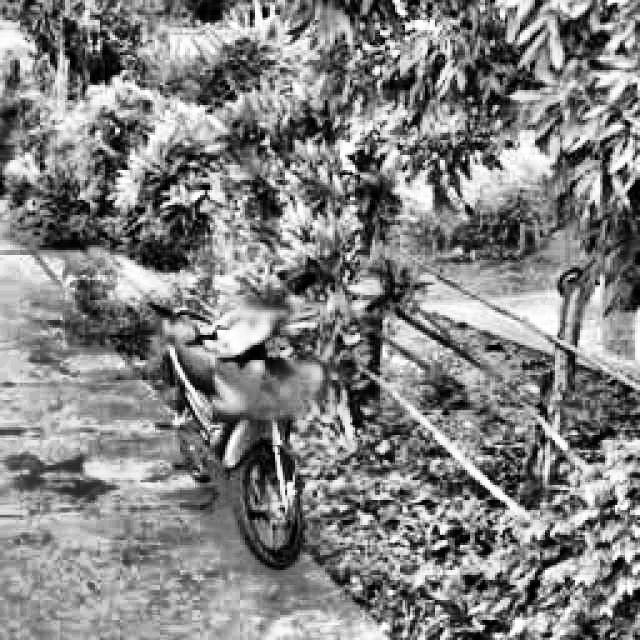motorcycle: (136, 285, 326, 575)
